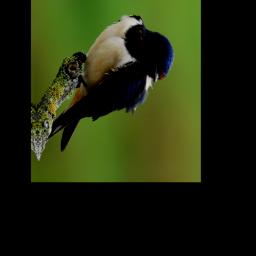Swallow: (40, 9, 179, 154)
